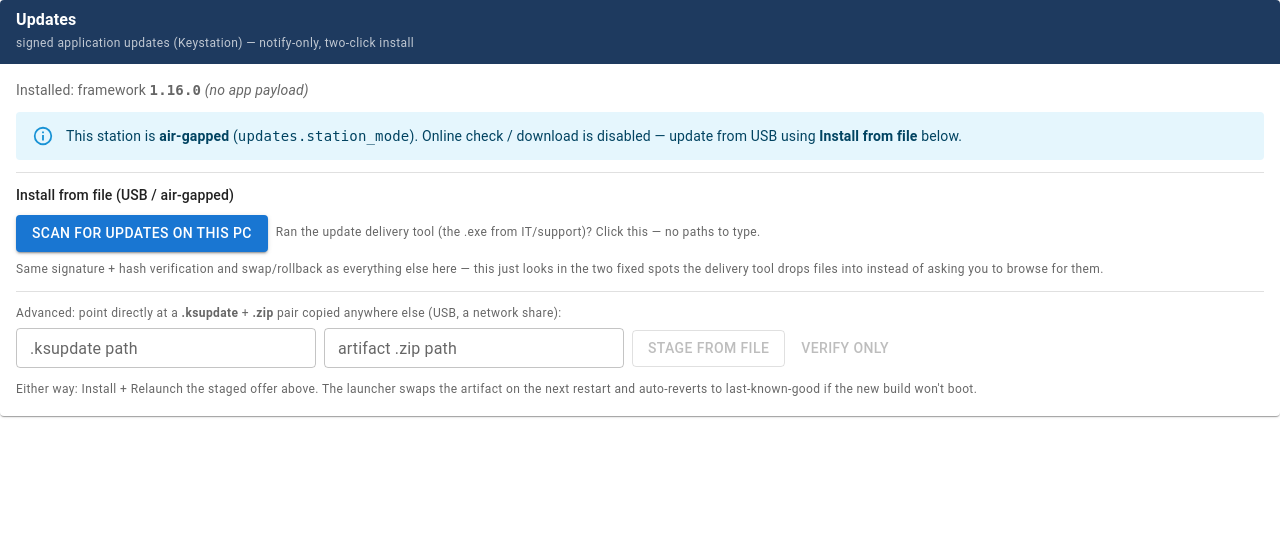
Scenario: UpdatesConfig › air_gapped: Scan for updates surfaces an error when staging fails
The image size is (1280, 555).
Click the button "Scan for updates on this PC" at (142,233), box [16,215,268,252]
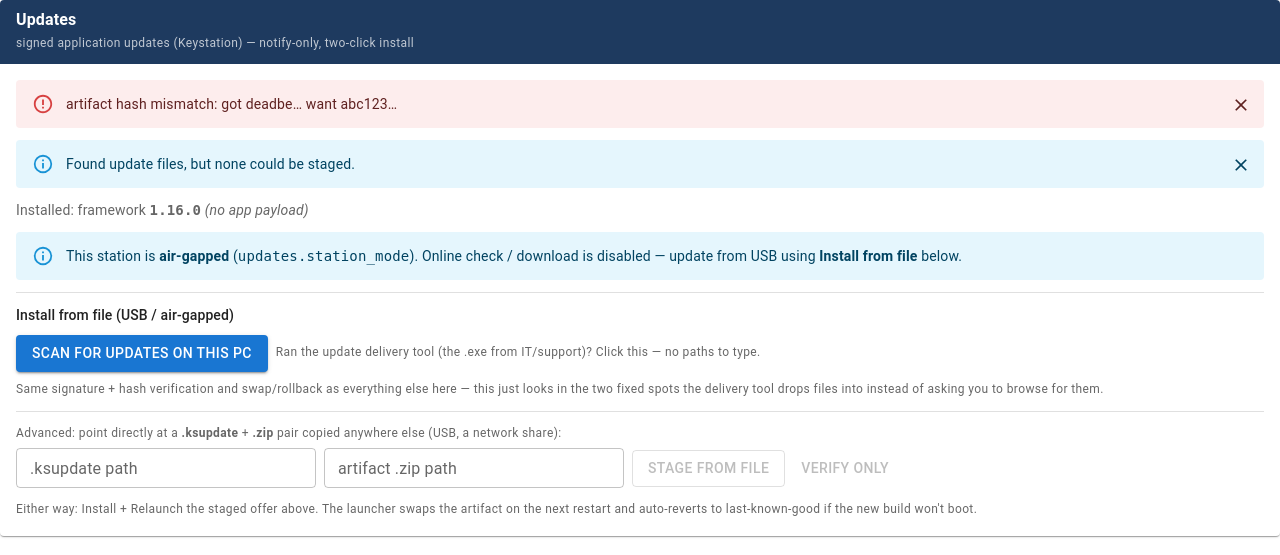
Check: the text "Found update files, but none could be staged." is shown, box [66,156,355,172]
Check: the text "artifact hash mismatch: got deadbe… want abc123…" is shown, box [66,96,397,112]
